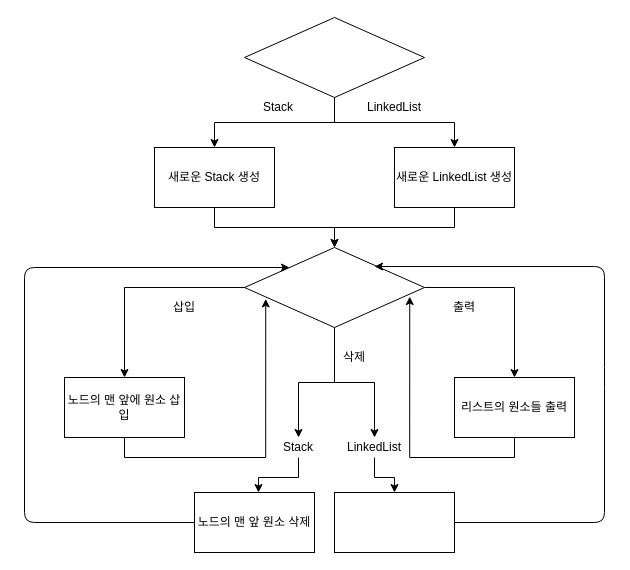
The diagram is 630 pixels wide and 570 high, and some of its shapes have lost their labels. The shapes that lost their labels are listed below. From the top down, each one's centre as x and y in pixels, then its label:
the point at 334,57: 자료구조
the point at 334,287: 메뉴
the point at 394,522: 노드의 맨 뒤 원소 삭제
